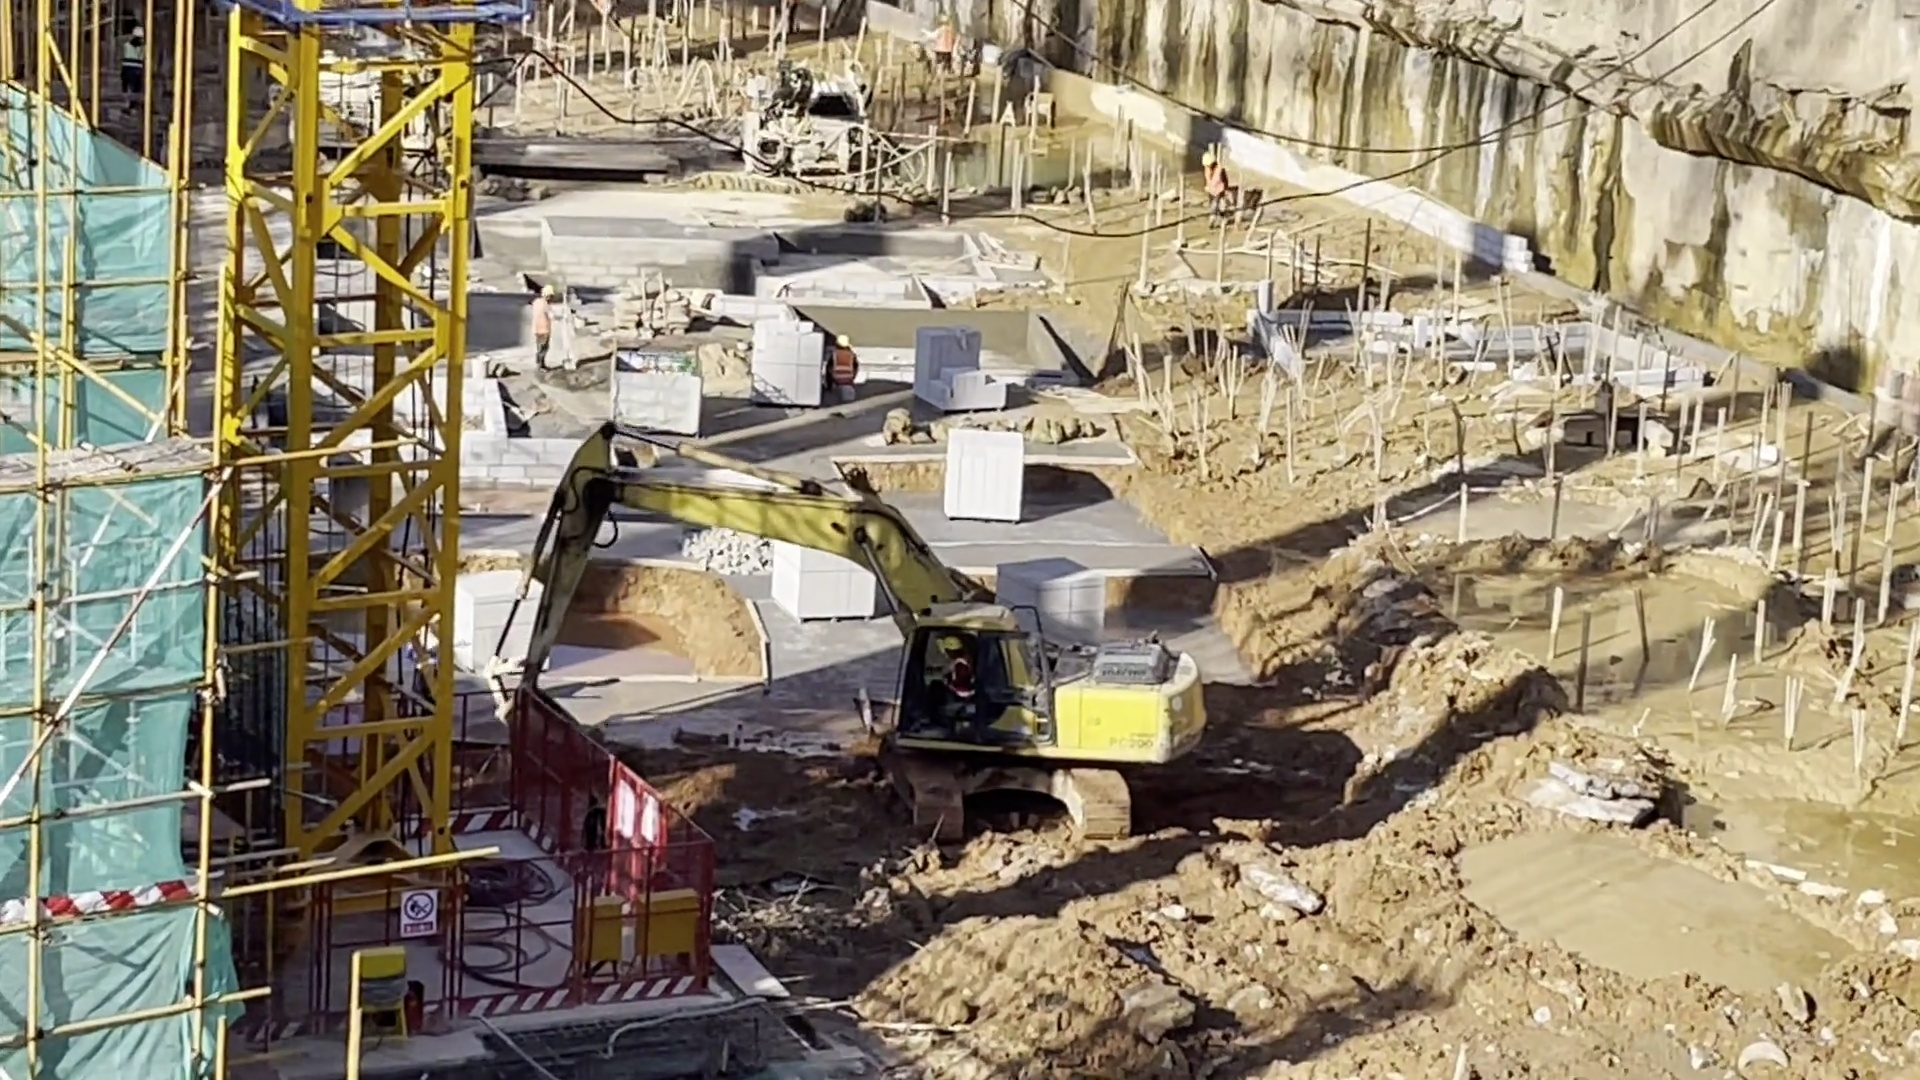brick: (461, 573, 543, 667), (784, 549, 856, 636), (928, 335, 1000, 420), (1020, 567, 1092, 649), (949, 433, 1016, 519), (751, 326, 818, 411)
ebox: (646, 897, 698, 967), (577, 899, 623, 969)
helmet: (942, 634, 963, 654), (833, 331, 854, 345), (1203, 154, 1221, 169), (129, 24, 148, 38), (542, 283, 554, 303), (940, 16, 949, 23)
person: (929, 631, 991, 739), (521, 279, 564, 386), (821, 334, 874, 406), (1195, 151, 1243, 228), (918, 12, 963, 87), (114, 23, 149, 100)
slogan: (400, 892, 437, 929)
vest: (532, 304, 564, 344), (1197, 166, 1230, 199), (121, 40, 153, 71), (827, 351, 860, 381), (948, 663, 973, 698), (934, 31, 956, 56)
